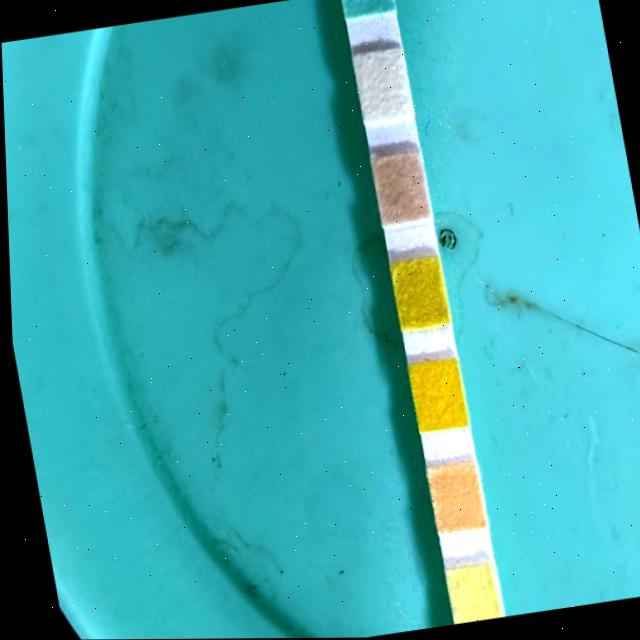Bilirubin: (353, 48, 411, 120)
Blood: (407, 360, 463, 430)
Glucose: (342, 0, 396, 16)
Ketone: (371, 153, 430, 225)
Protein: (442, 568, 496, 625)
SpGravity: (389, 258, 447, 328)
pH: (424, 465, 482, 531)
